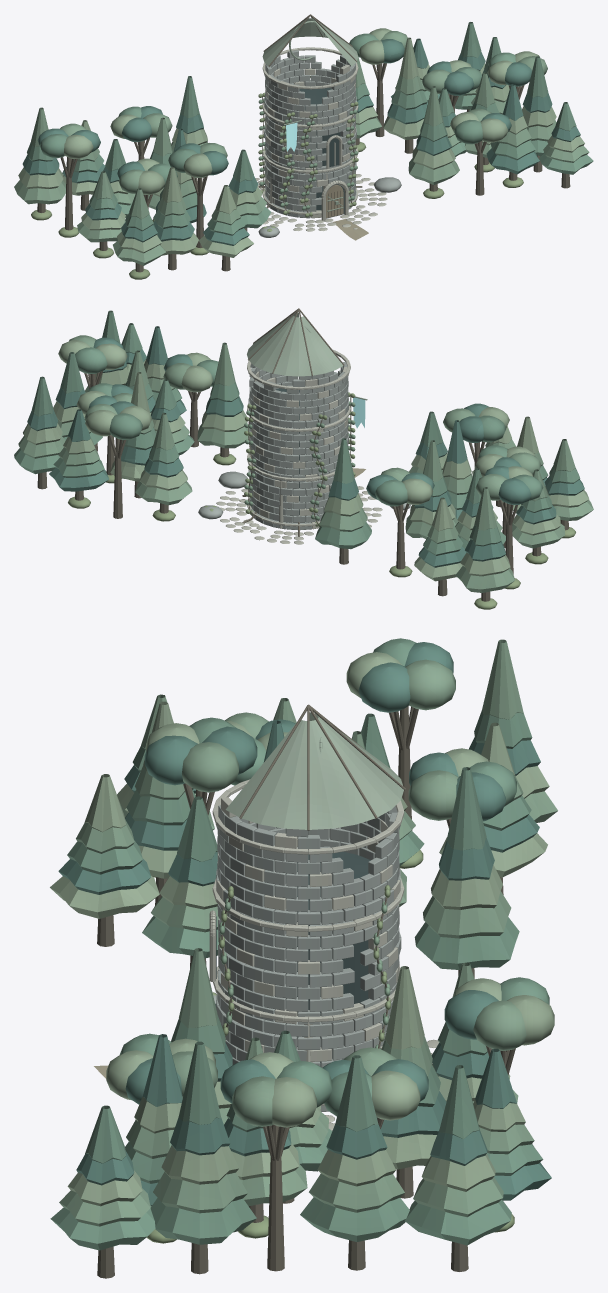
The model's file is village-old-tower.glb.
The picture shows the model from 3 angles, top to bottom: view 1: azimuth 30°, elevation 25°; view 2: azimuth 150°, elevation 25°; view 3: azimuth 270°, elevation 25°; orthographic projection. The views are drawn at different scales.
Visible parts, largest first — view 1: Forest hamlet; view 2: Forest hamlet; view 3: Forest hamlet.
Part boxes in pixels (left/top/right/bottom): Forest hamlet: left=14, top=14, right=593, bottom=279; Forest hamlet: left=14, top=308, right=593, bottom=609; Forest hamlet: left=50, top=638, right=557, bottom=1278.
Size of the model in its own units: 31.64 by 11.96 by 14.76.
Materials: 14 (14 with a texture image).
